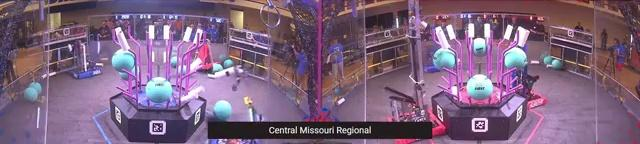reef: (430, 24, 530, 140), (111, 24, 207, 144)
robot: (386, 0, 447, 144), (206, 97, 268, 144), (66, 42, 104, 81), (518, 70, 547, 110), (194, 37, 221, 73), (424, 45, 443, 75)
